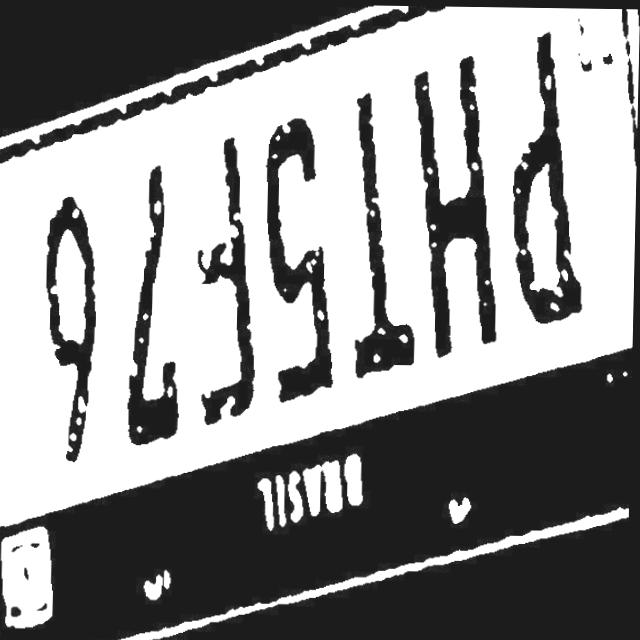5: (262, 97, 346, 419)
6: (31, 187, 105, 472)
7: (110, 151, 188, 456)
f: (183, 134, 265, 429)
h: (402, 48, 508, 357)
p: (501, 25, 593, 335)
t: (337, 58, 427, 387)
